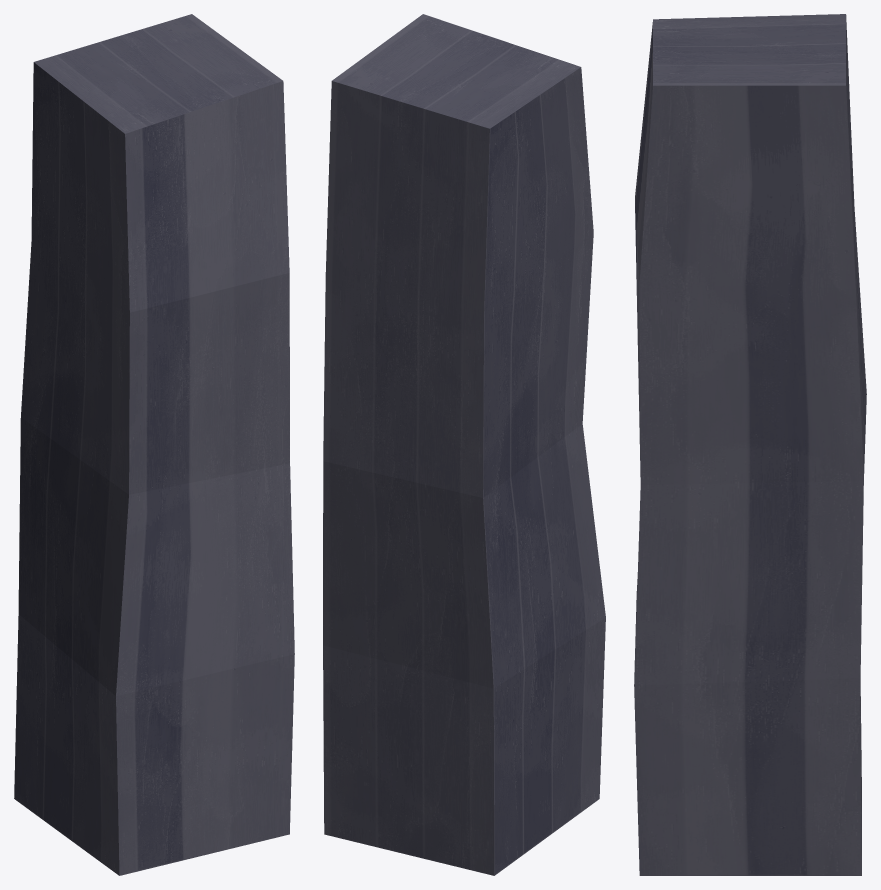
Rendered from FencePost.fbx.
3 views of the same model, side by side, from view 1: azimuth 30°, elevation 25°; view 2: azimuth 150°, elevation 25°; view 3: azimuth 270°, elevation 25° (orthographic). The views are drawn at different scales.
Parts seen in each view (by area): view 1: FencePost; view 2: FencePost; view 3: FencePost.
Part boxes in pixels (box(x1,y1,x2,y2)): FencePost: box(14, 14, 294, 875); FencePost: box(323, 14, 605, 875); FencePost: box(634, 14, 866, 875).
Size of the model in its own units: 28.05 by 113 by 30.14.
